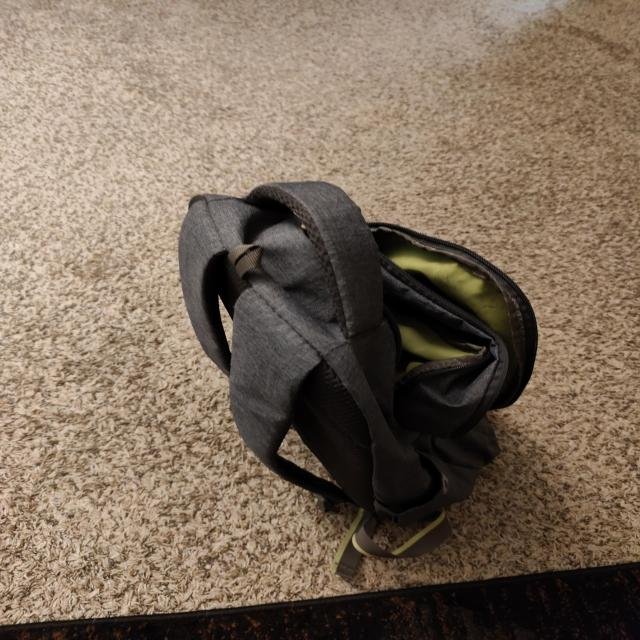bag: (194, 186, 510, 530)
